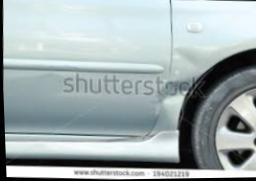Door: (3, 0, 173, 144)
Fender: (124, 0, 256, 161)
